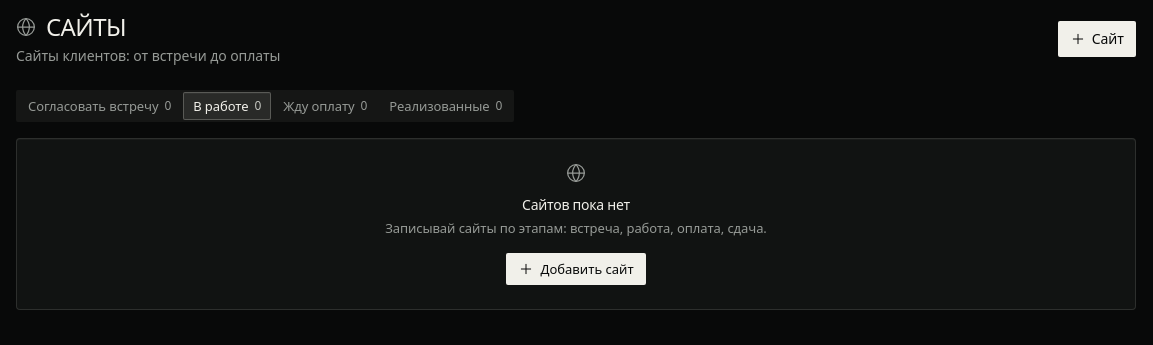
Test: SitesPage › empty tabs say what to do
Click the tab "Согласовать встречу 0": [100, 106] box 18,92 -> 181,120
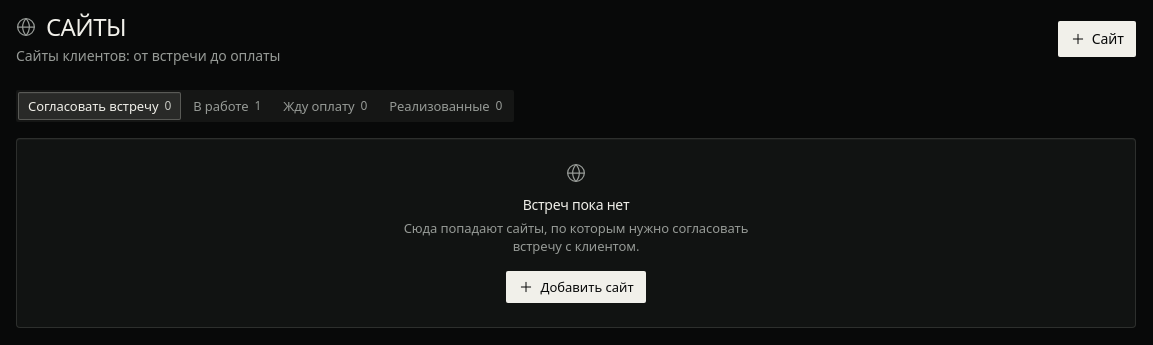
Now the heading "Встреч пока нет" is shown, box 523,195 -> 629,215
Click the tab "Жду оплату 0": [325, 106] box 273,92 -> 377,120
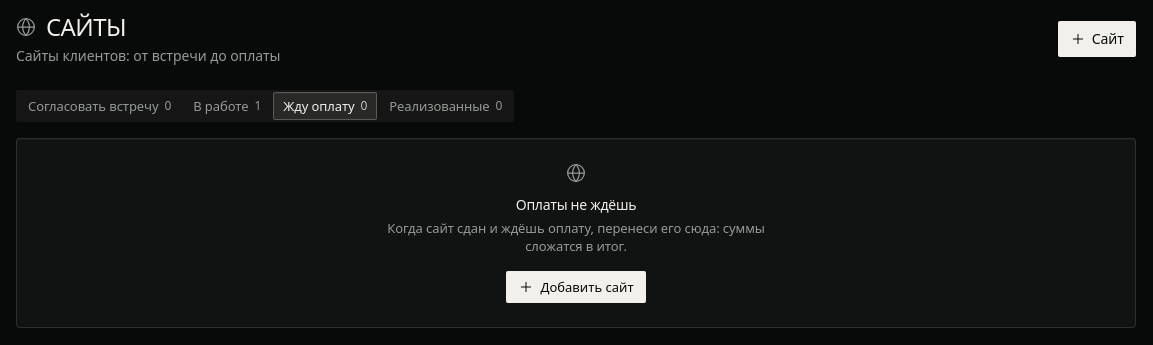
Now the heading "Оплаты не ждёшь" is shown, box 516,195 -> 636,215
Click the tab "Реализованные 0": [446, 106] box 379,92 -> 512,120
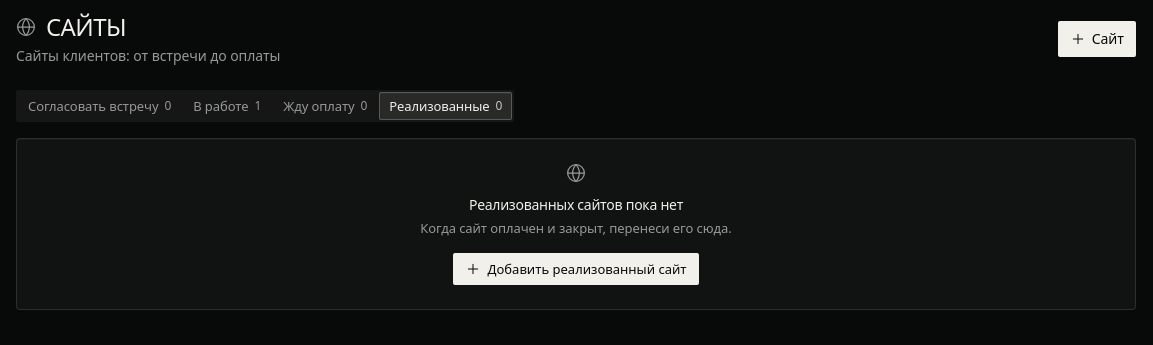
Now the text "Когда сайт оплачен и закрыт, перенеси его сюда." is shown, box 420,219 -> 732,237
Now the heading "Реализованных сайтов пока нет" is shown, box 469,195 -> 683,215
